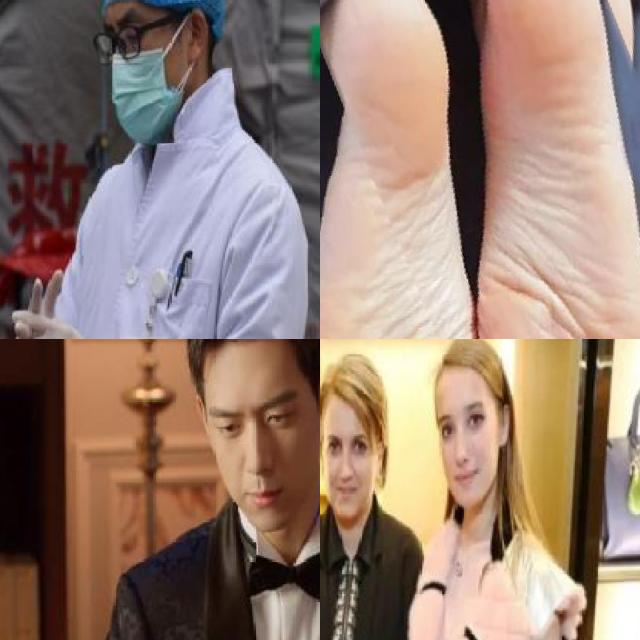Barefoots: (477, 0, 640, 339), (320, 0, 480, 339)
No_Ear-Protection: (311, 361, 320, 434)
No_Glasses: (200, 391, 307, 446)
face_mask: (94, 5, 185, 147)
face_nomask: (199, 347, 320, 519), (436, 398, 499, 510), (320, 417, 370, 522)
glasses: (93, 22, 144, 68)
hand_glove: (14, 265, 61, 339), (12, 309, 103, 339)
head_nohelmet: (427, 339, 524, 399), (320, 353, 382, 420), (175, 339, 320, 367)
person: (8, 0, 302, 339), (52, 339, 320, 640), (411, 339, 562, 640), (320, 351, 417, 640)
